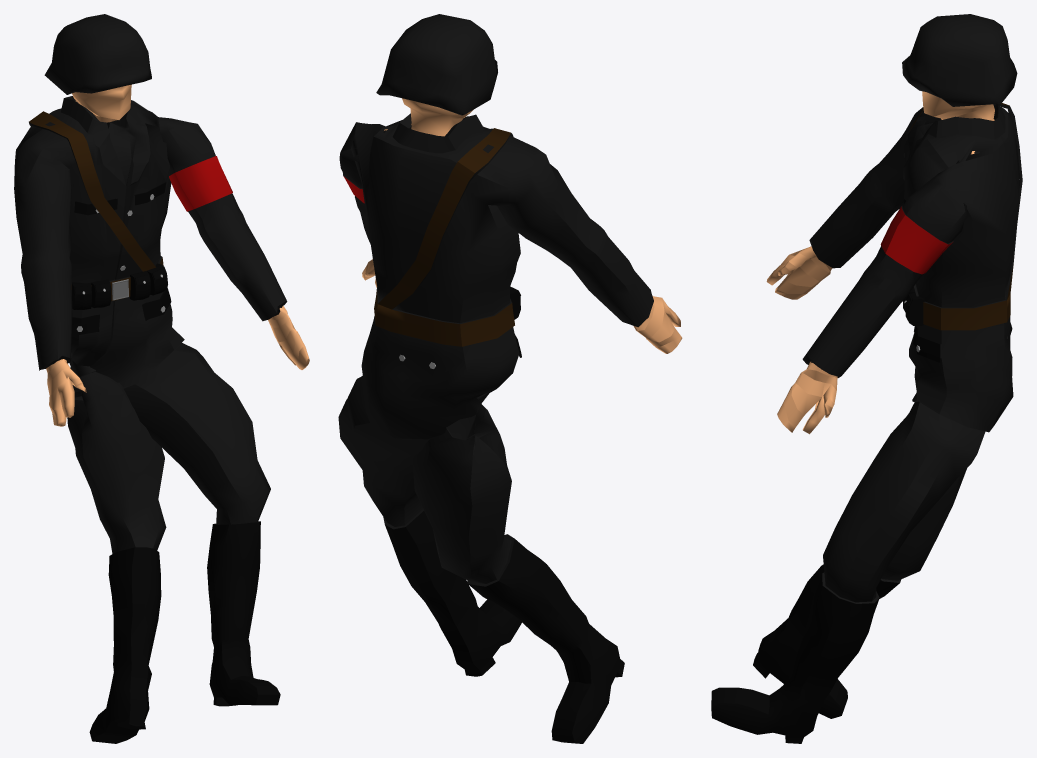
File: german_ww2_soldier_seated_static.glb
3 renders of one model, left to right at view 1: azimuth 30°, elevation 25°; view 2: azimuth 150°, elevation 25°; view 3: azimuth 270°, elevation 25°, orthographic. The views are drawn at different scales.
Parts seen in each view (by area): view 1: Soldier_1_Static, Helmet_Static; view 2: Soldier_1_Static, Helmet_Static; view 3: Soldier_1_Static, Helmet_Static.
Part boxes in pixels (x1,y1,x2,y2): Soldier_1_Static: [14, 84, 309, 743]; Helmet_Static: [44, 14, 151, 94]; Soldier_1_Static: [338, 98, 682, 743]; Helmet_Static: [376, 14, 497, 115]; Soldier_1_Static: [711, 91, 1022, 743]; Helmet_Static: [902, 14, 1017, 106].
Size of the model in its own units: 0.6242 by 1.53 by 0.5978.
Materials: 1 (1 with a texture image).
